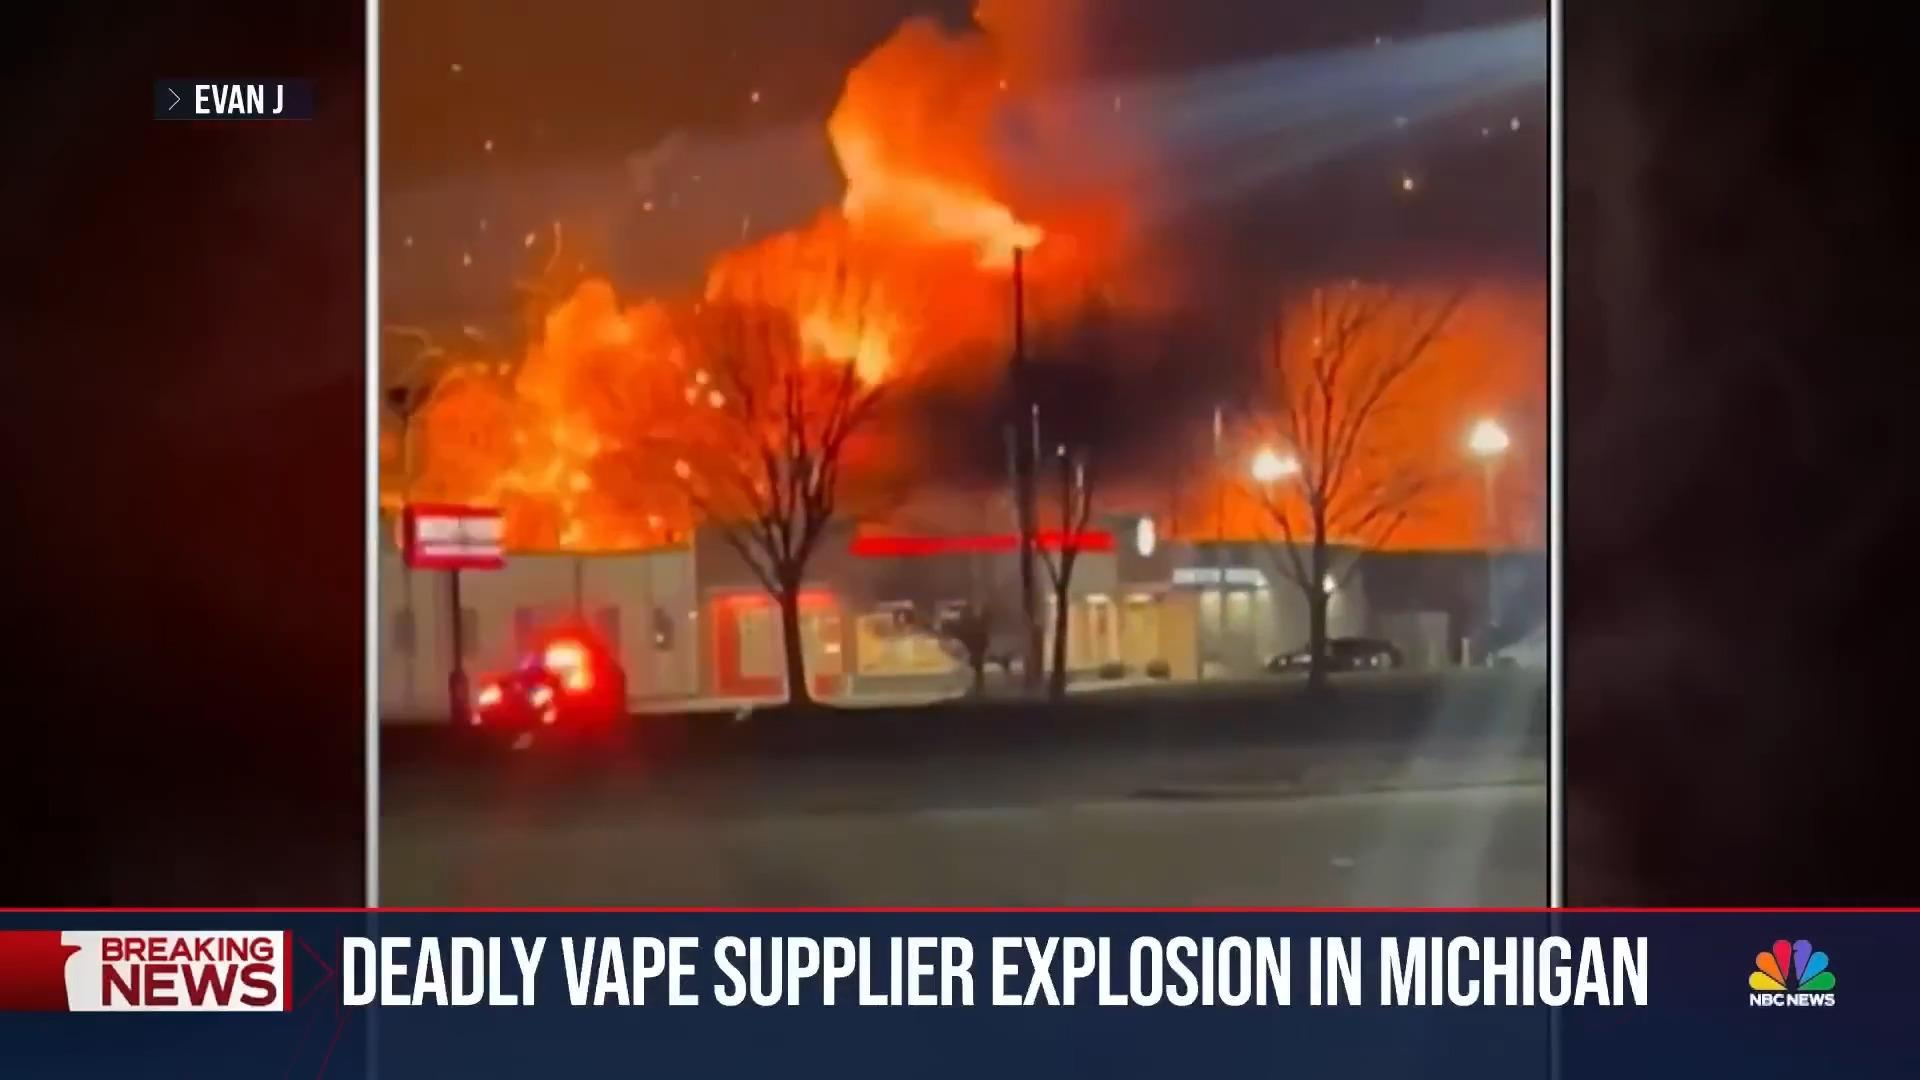fire: (418, 0, 1523, 546)
